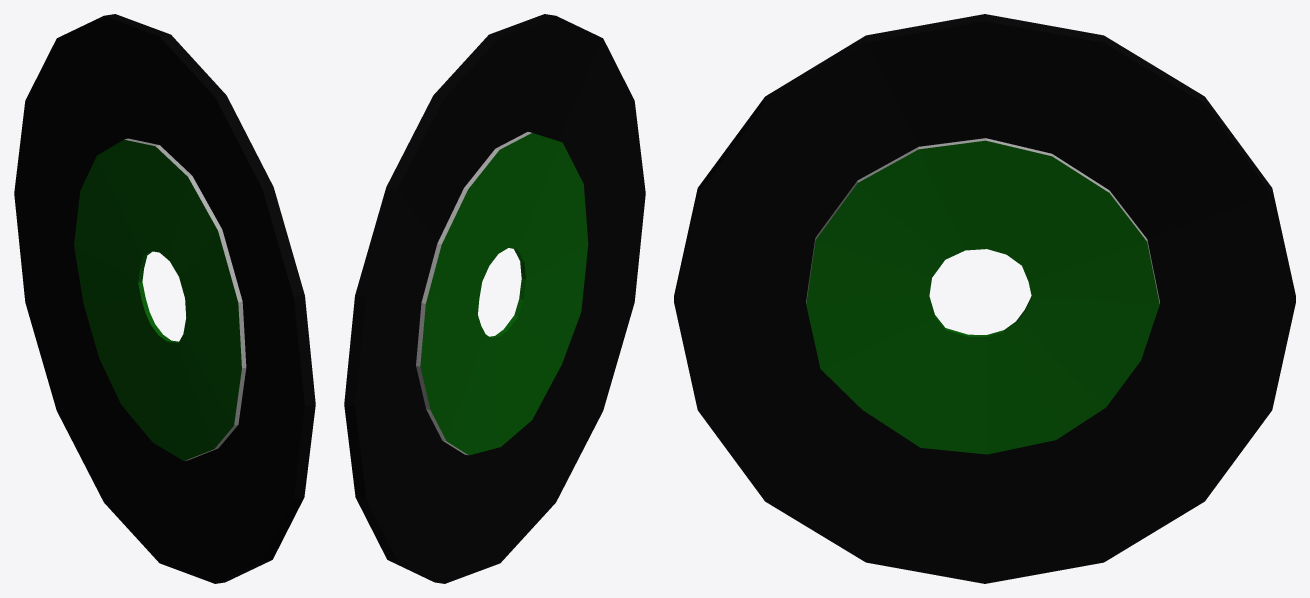
Rendered from record 4 fbx.fbx.
3 views of the same model, side by side, from view 1: azimuth 30°, elevation 25°; view 2: azimuth 150°, elevation 25°; view 3: azimuth 270°, elevation 25° (orthographic). The views are drawn at different scales.
Visible parts, largest first — view 1: polySurface5; view 2: polySurface5; view 3: polySurface5.
Boxes of the visible parts, <box> form: polySurface5: <box>14,14,315,583</box>; polySurface5: <box>344,14,645,583</box>; polySurface5: <box>674,14,1295,583</box>.
Size of the model in its own units: 0.0288 by 0.9535 by 0.9518.
